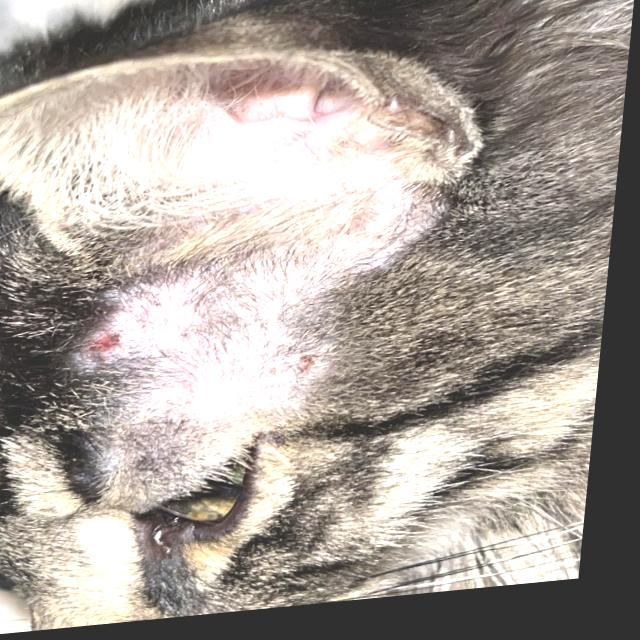ringworm: (72, 267, 331, 398)
